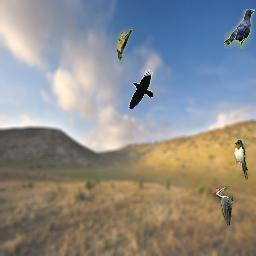Crow: (224, 9, 255, 49), (128, 69, 153, 109)
Swallow: (234, 140, 248, 180), (117, 27, 133, 60)
Woodpecker: (212, 186, 233, 226)
